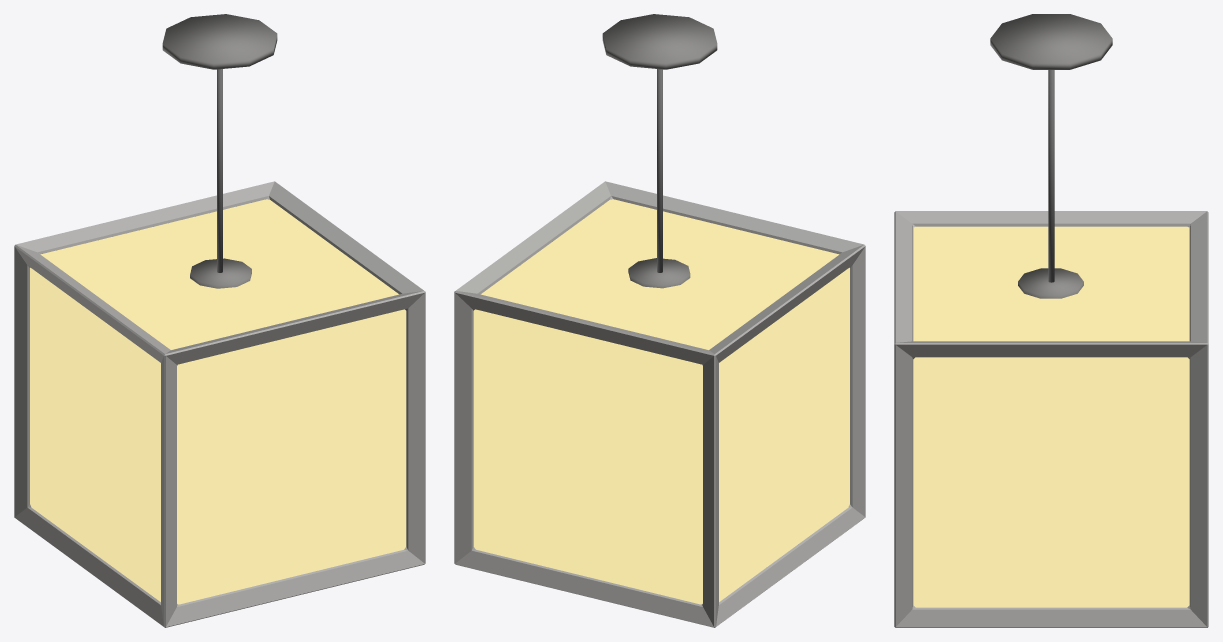
File: Light_Cube.glb
The picture shows the model from 3 angles, left to right: view 1: azimuth 30°, elevation 25°; view 2: azimuth 150°, elevation 25°; view 3: azimuth 270°, elevation 25°; orthographic projection. The views are drawn at different scales.
Visible parts, largest first — view 1: Light_Cube; view 2: Light_Cube; view 3: Light_Cube.
Part boxes in pixels (left/top/right/bottom): Light_Cube: left=14, top=14, right=425, bottom=627; Light_Cube: left=454, top=14, right=865, bottom=627; Light_Cube: left=894, top=14, right=1208, bottom=627.
Size of the model in its own units: 0.5638 by 1.04 by 0.5638.
